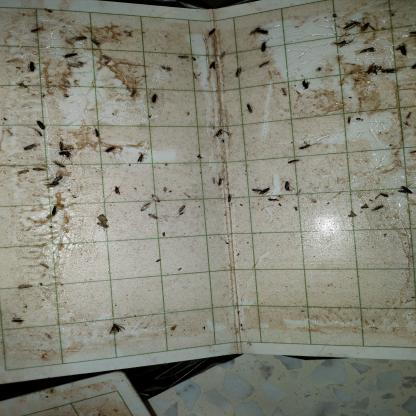prays_oleae: (362, 57, 385, 85), (94, 210, 112, 236), (213, 121, 230, 142), (104, 322, 128, 335), (242, 27, 270, 37), (258, 53, 272, 72), (70, 31, 88, 45), (245, 98, 257, 118), (61, 47, 77, 62), (280, 179, 295, 195), (298, 138, 313, 154), (21, 142, 40, 154), (340, 20, 359, 32), (395, 184, 414, 196), (52, 159, 67, 173), (285, 156, 302, 168), (25, 58, 39, 72), (205, 28, 220, 41), (36, 114, 46, 133), (112, 181, 122, 198), (162, 62, 174, 76), (101, 148, 117, 158), (137, 148, 146, 164), (251, 185, 263, 196), (30, 26, 46, 34), (139, 202, 151, 212), (92, 128, 100, 141), (359, 50, 378, 55), (260, 186, 270, 193)
